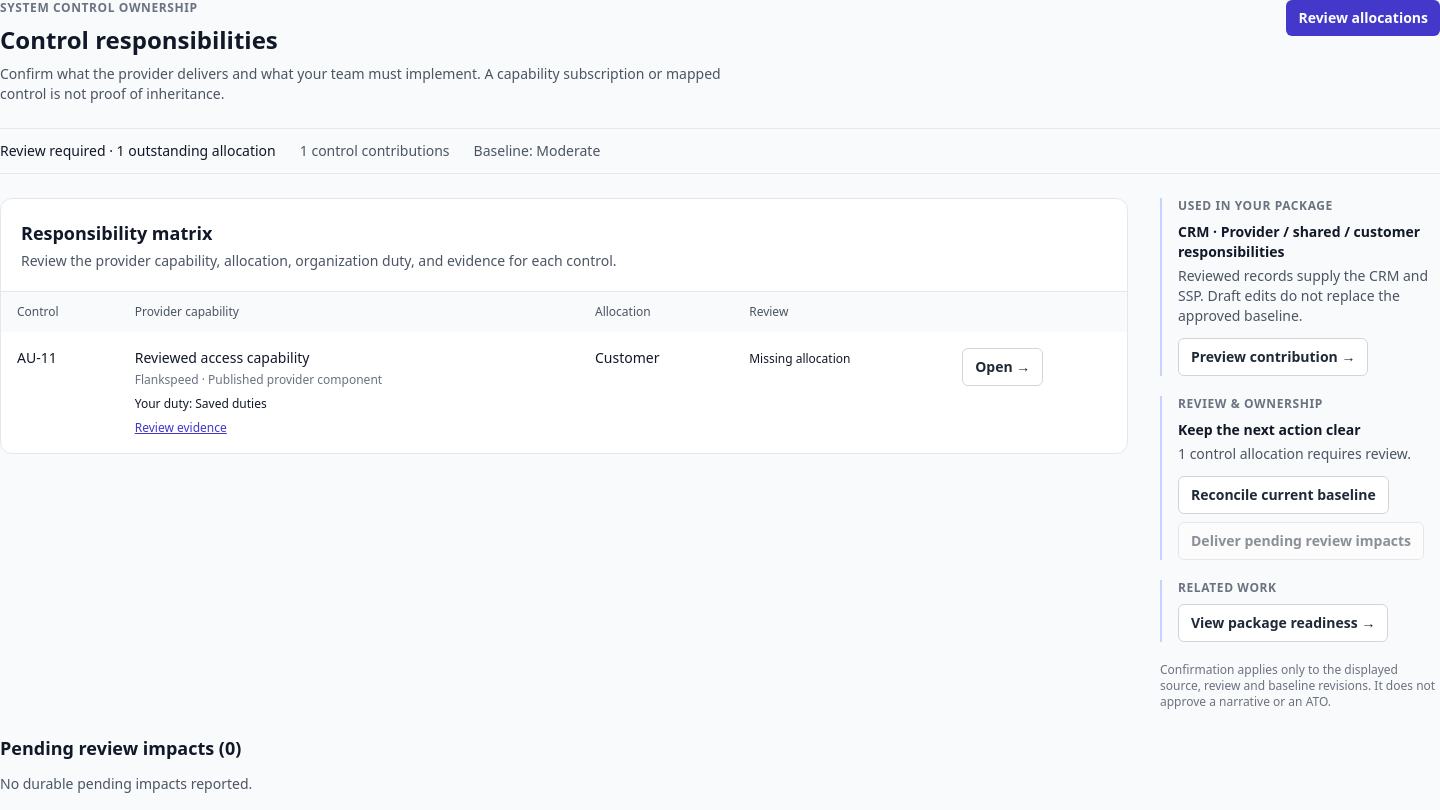
keeps an information gap local without overwriting an existing allocation
Click the button with aria-label "Open AU-11 responsibility": (1003, 367) [962,348,1043,386]
(page scrolled)
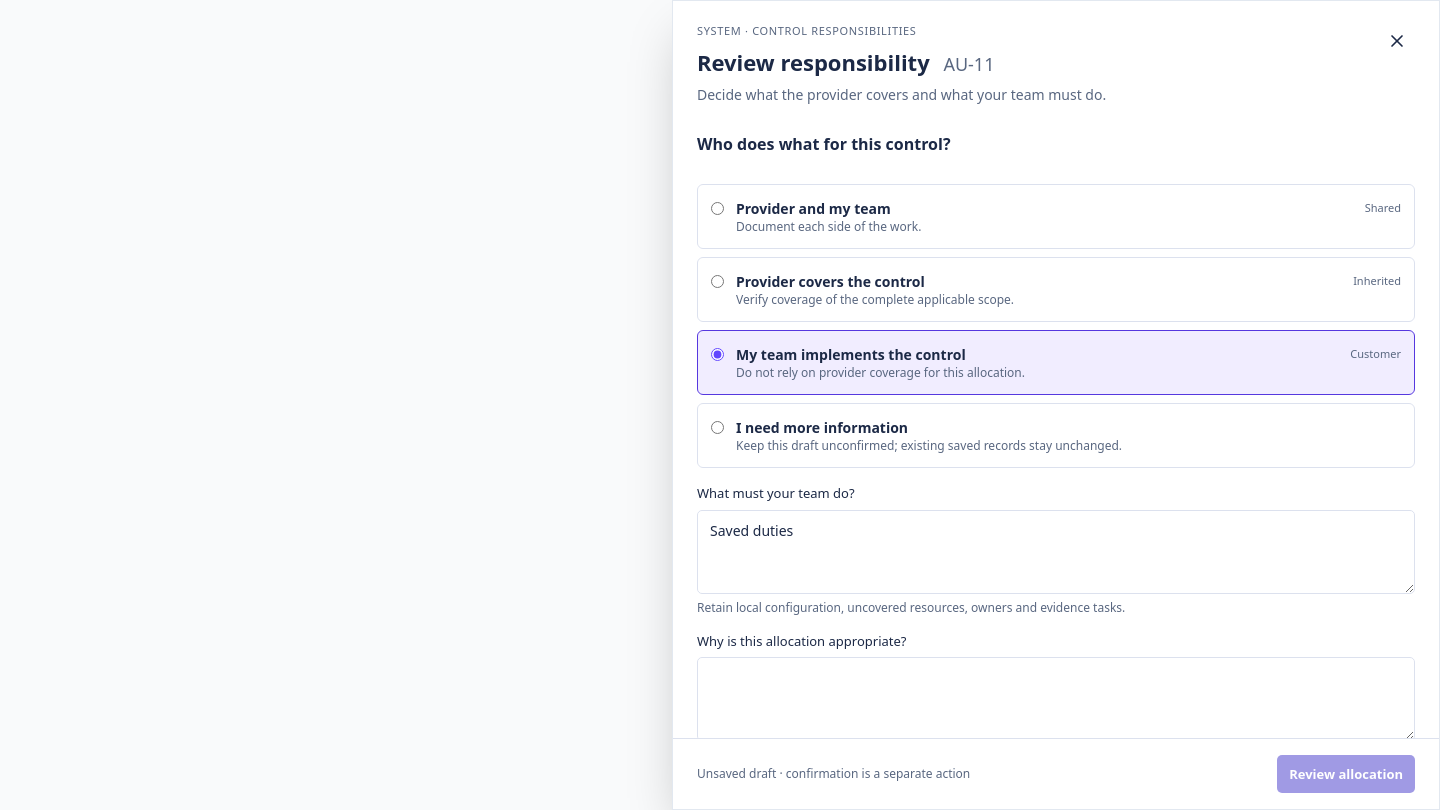
Click the radio button labelled "I need more information": (718, 428) [711,421,724,434]
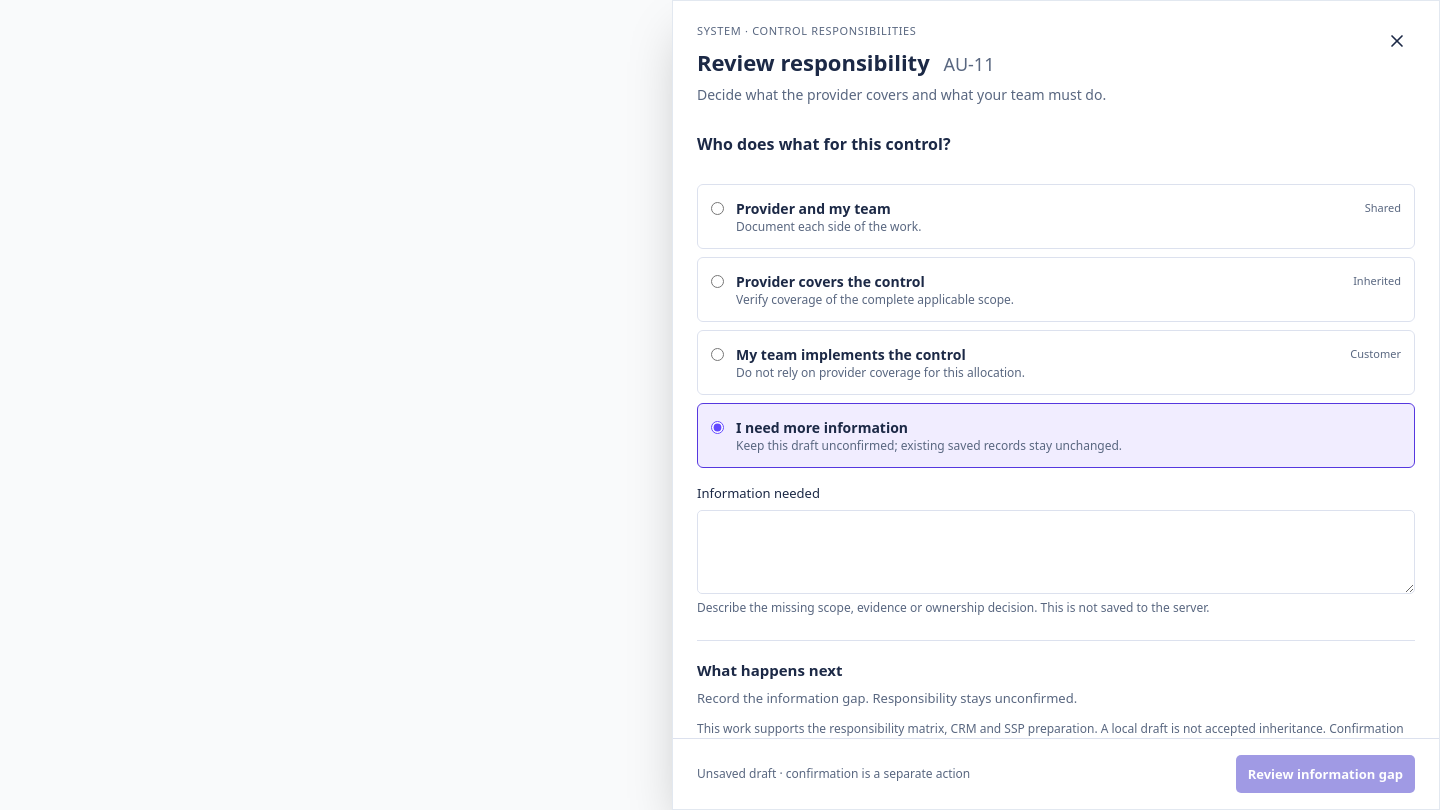
In the text box labelled "Information needed": (1056, 552) [697,510,1415,594], type "Verify scope first."
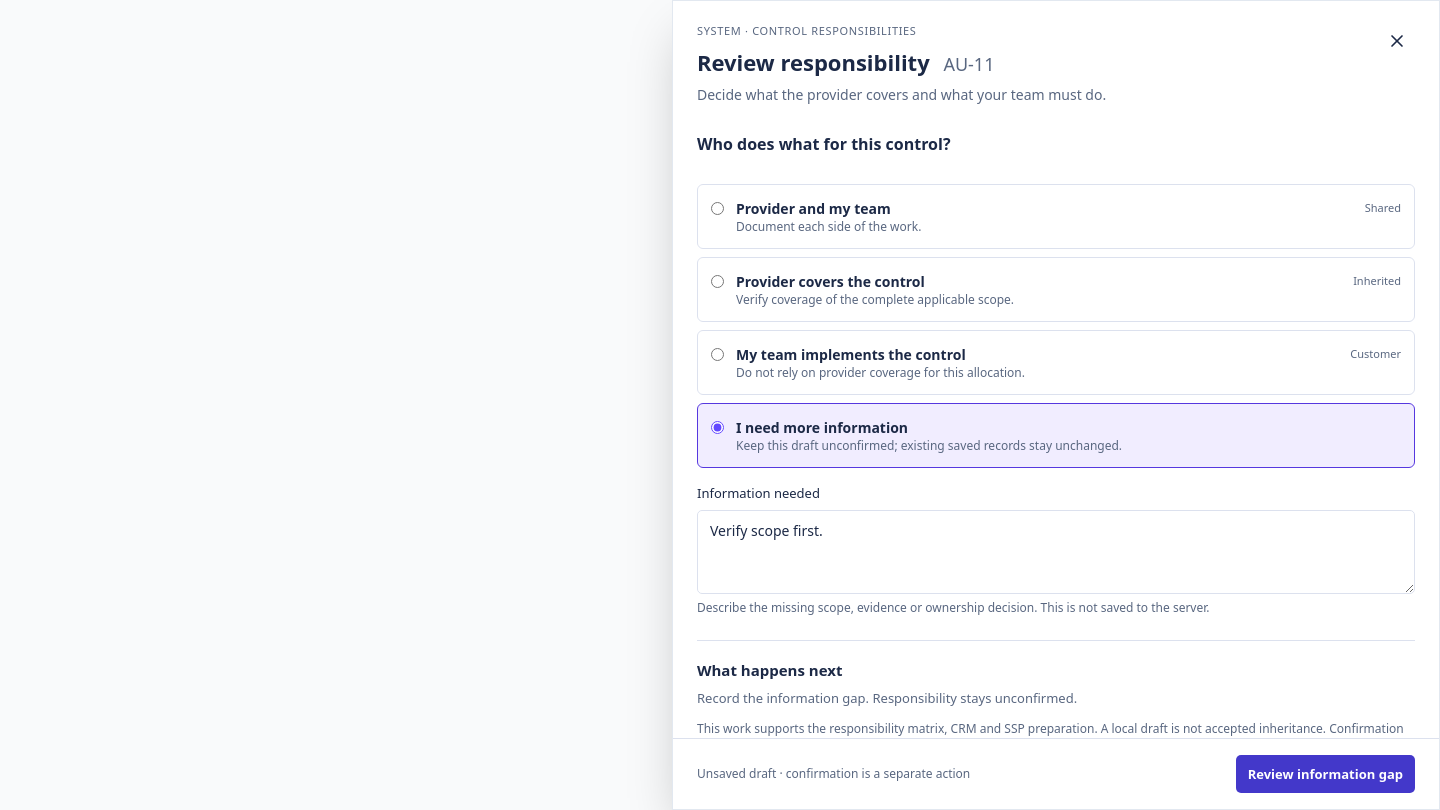
Click the button "Review information gap": (1325, 774) [1236,755,1415,793]
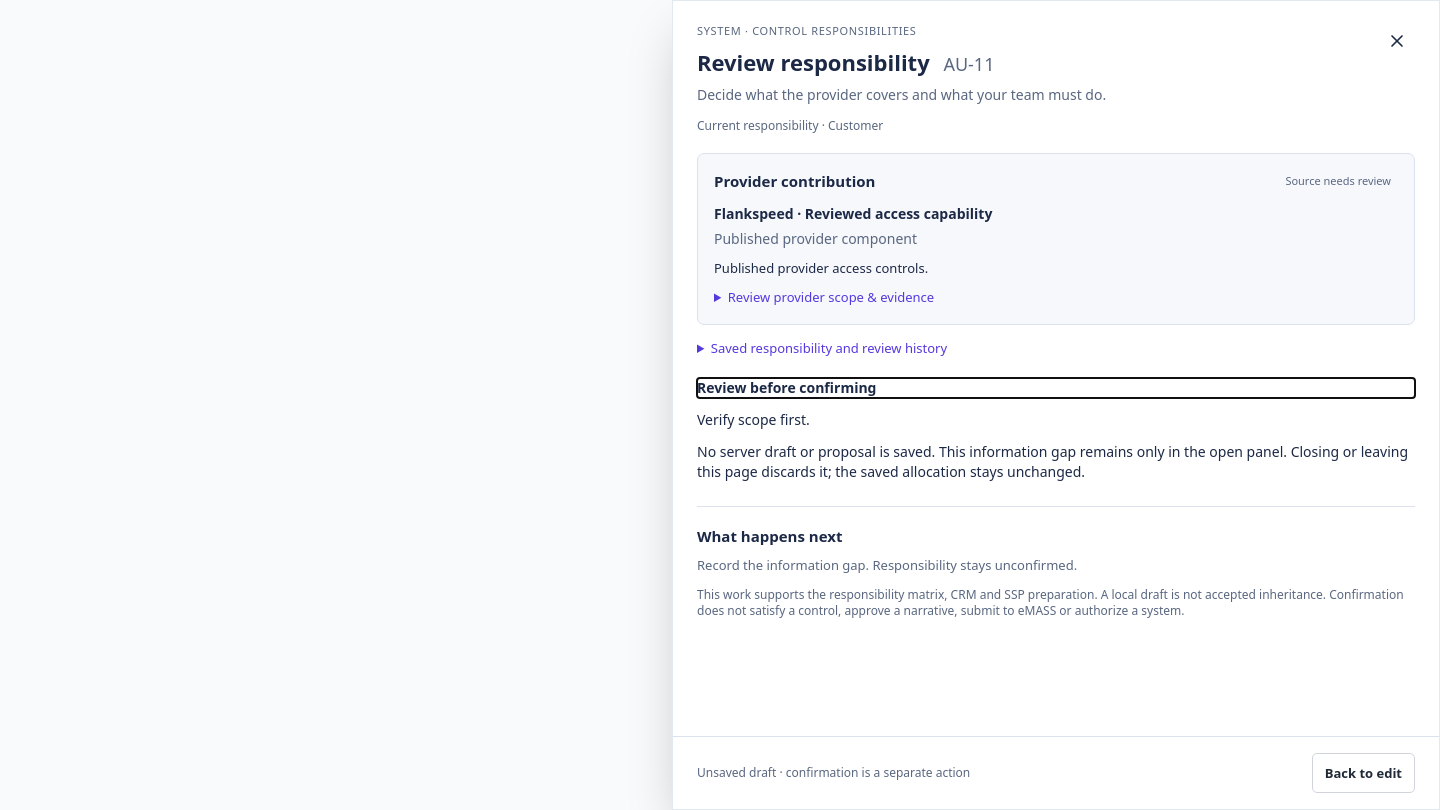
Check: the text "Current responsibility · Customer" is shown, box [697,117,883,134]
Check: the text "No server draft or proposal is saved" is shown, box [697,442,1408,481]
